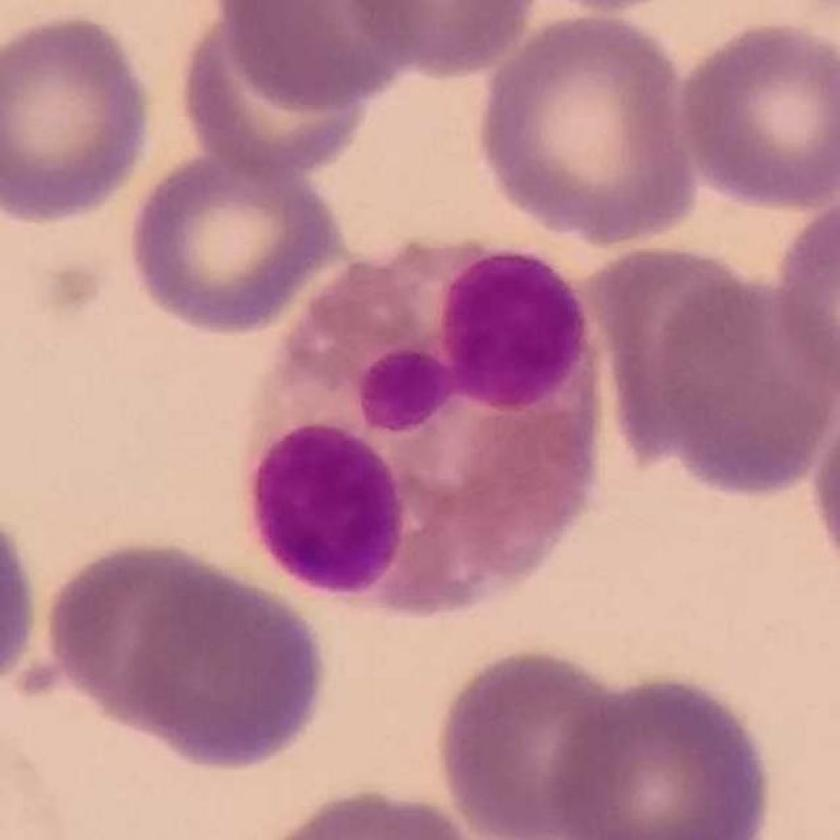eosinophil: (244, 240, 606, 620)
